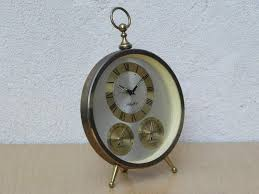alarm_clock: (82, 3, 196, 187), (79, 3, 184, 187), (79, 5, 184, 187), (82, 3, 184, 187)
